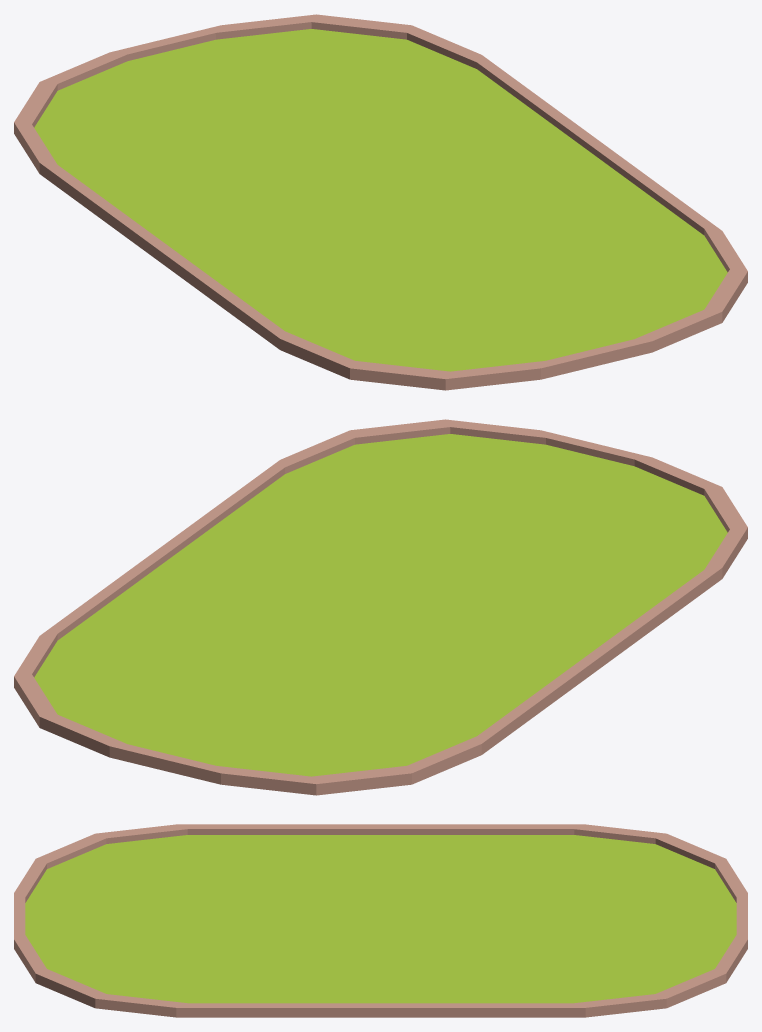
The model's file is ParkSmall.fbx.
The picture shows the model from 3 angles, top to bottom: view 1: azimuth 30°, elevation 25°; view 2: azimuth 150°, elevation 25°; view 3: azimuth 270°, elevation 25°; orthographic projection. The views are drawn at different scales.
Parts seen in each view (by area): view 1: park_small; view 2: park_small; view 3: park_small.
Part boxes in pixels (x1=…): park_small: x1=14, y1=14, x2=747, y2=390; park_small: x1=14, y1=419, x2=747, y2=795; park_small: x1=14, y1=824, x2=747, y2=1017.
Size of the model in its own units: 3347 by 81.94 by 5658.
